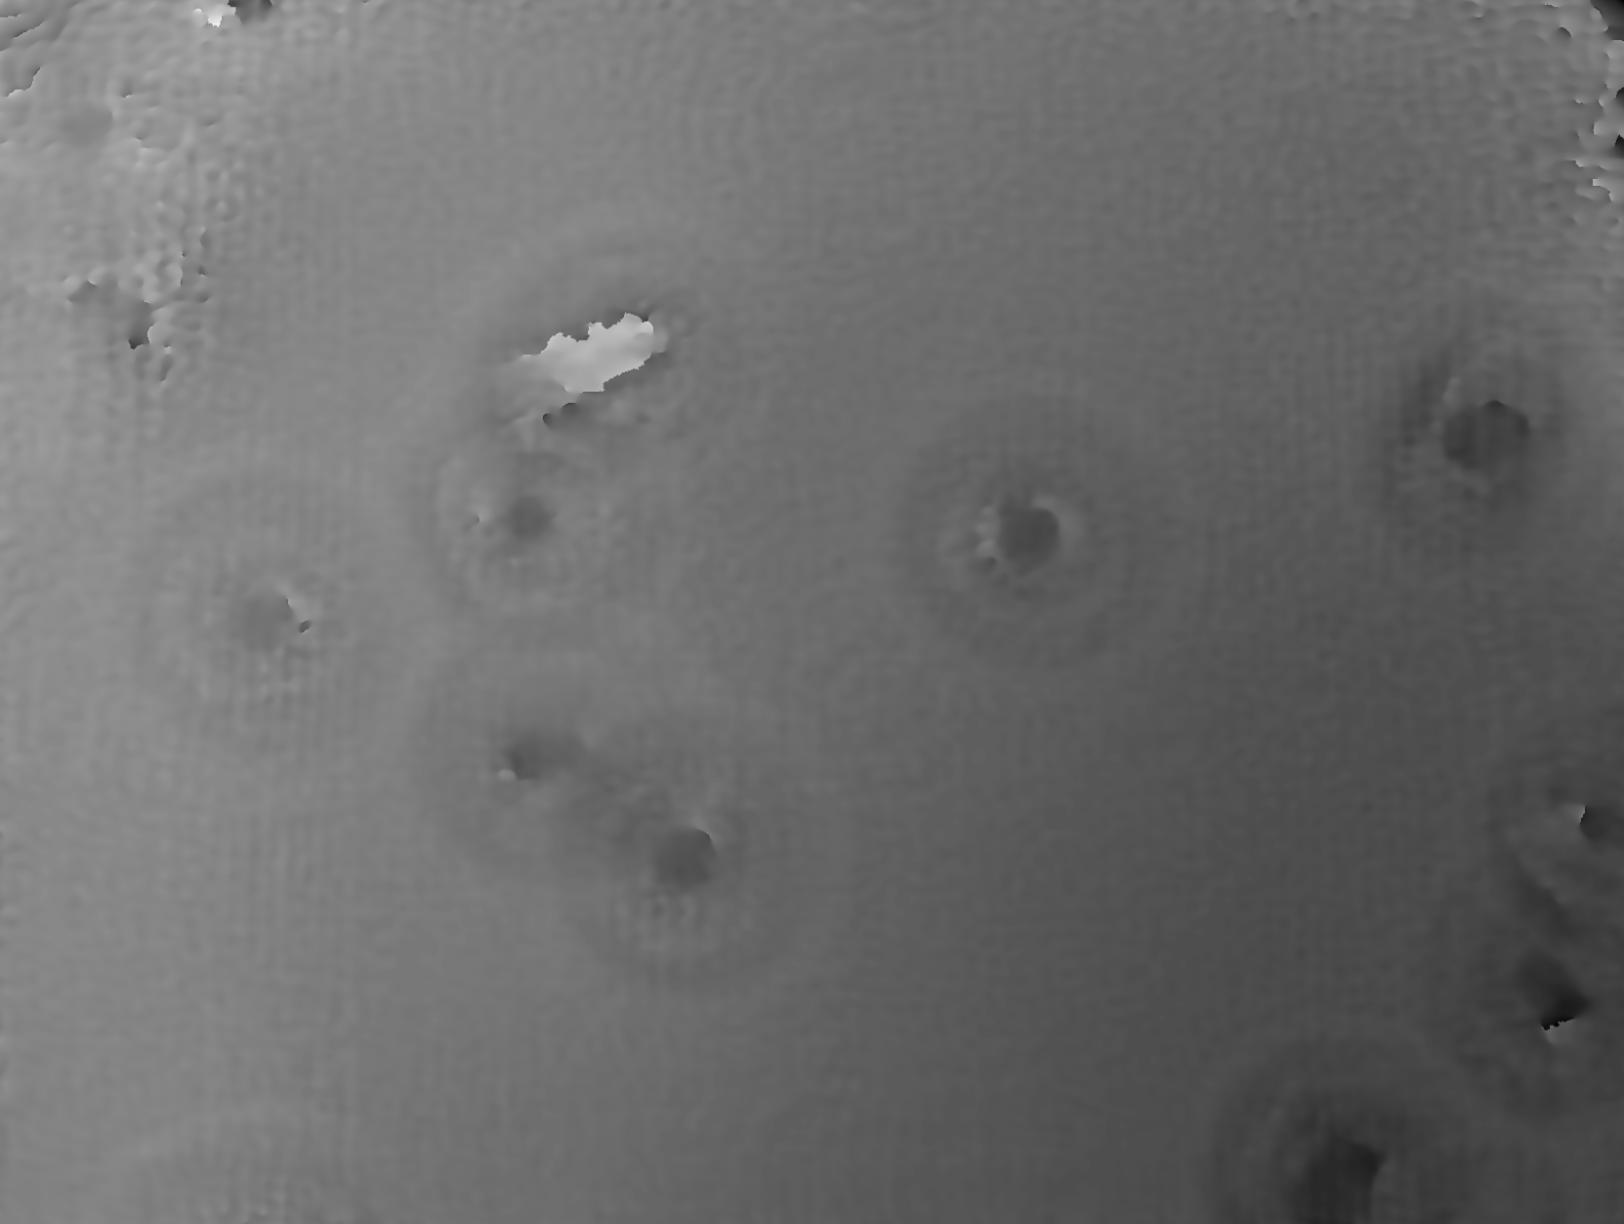cell: (120, 476, 417, 764), (552, 708, 827, 1004), (883, 399, 1177, 674), (390, 606, 684, 874), (399, 396, 679, 649), (1349, 302, 1594, 579)
